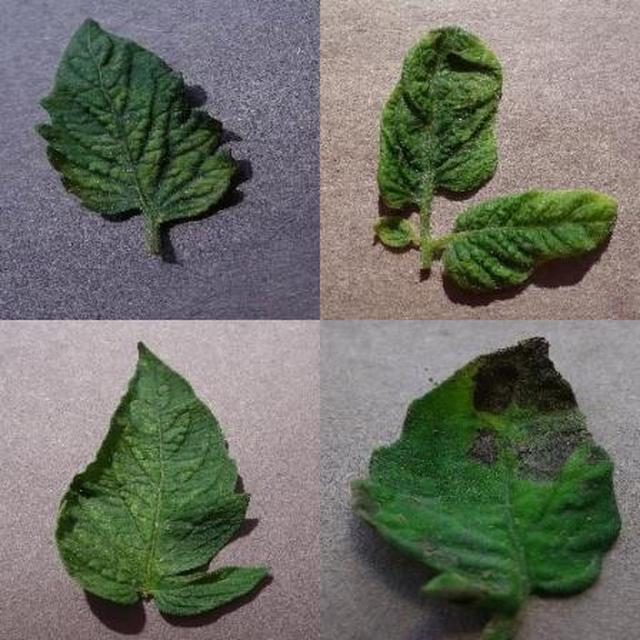Mosaic Virus Leaf: (67, 46, 640, 640)
